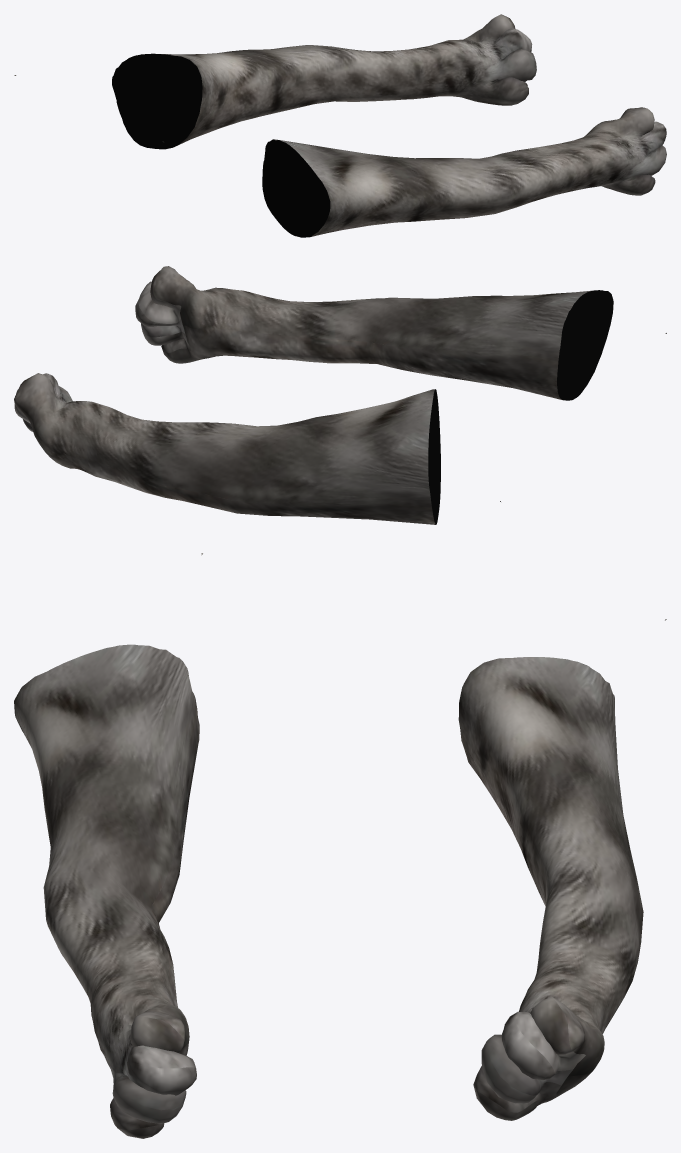
Rendered from catttt.fbx.
3 renders of one model, top to bottom at view 1: azimuth 30°, elevation 25°; view 2: azimuth 150°, elevation 25°; view 3: azimuth 270°, elevation 25°, orthographic. The views are drawn at different scales.
Visible parts, largest first — view 1: 宠物2010017.001, 宠物2010017; view 2: 宠物2010017.001, 宠物2010017; view 3: 宠物2010017, 宠物2010017.001.
Part boxes in pixels (x1=…): 宠物2010017.001: x1=14, y1=14, x2=536, y2=149; 宠物2010017: x1=162, y1=107, x2=666, y2=237; 宠物2010017.001: x1=14, y1=373, x2=500, y2=524; 宠物2010017: x1=135, y1=266, x2=666, y2=400; 宠物2010017: x1=14, y1=553, x2=202, y2=1138; 宠物2010017.001: x1=458, y1=619, x2=666, y2=1120.
Size of the model in its own units: 6929 by 2038 by 5148.
1 material, 1 textured.
